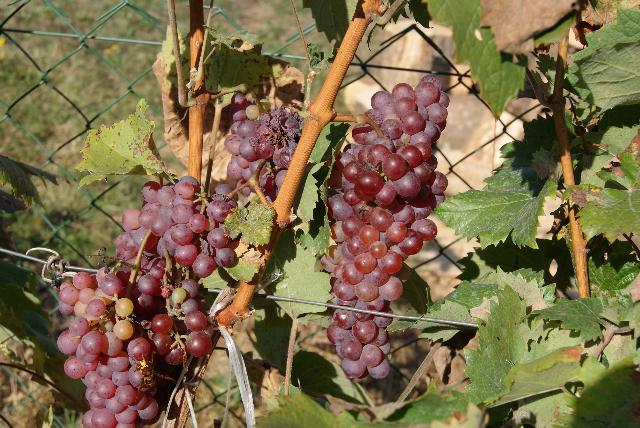grapes: (320, 75, 449, 379), (116, 175, 236, 355), (58, 268, 164, 425), (225, 94, 305, 205)
